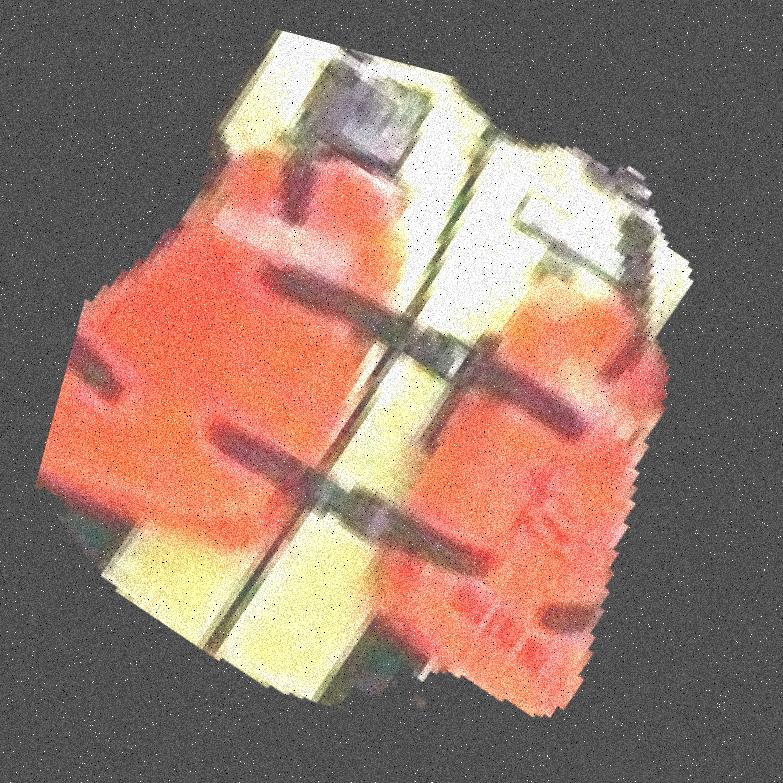Colete: (242, 0, 658, 782)
